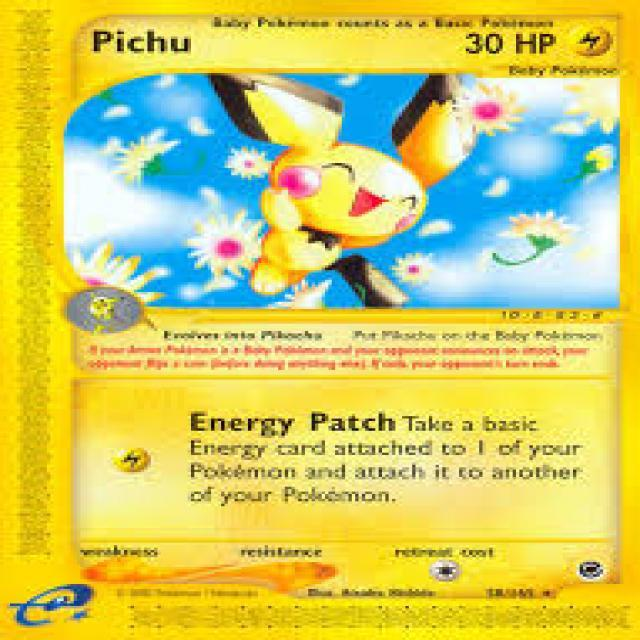pichu: (212, 88, 510, 306)
